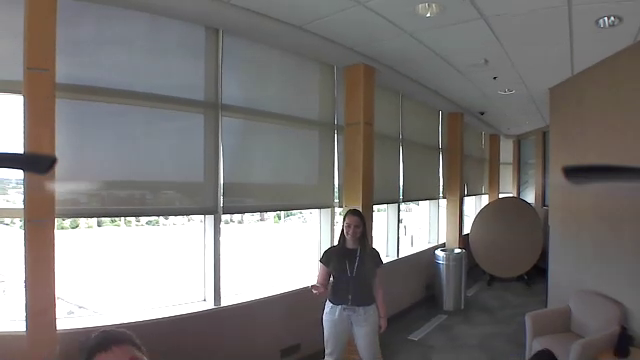land: (303, 279, 333, 300)
